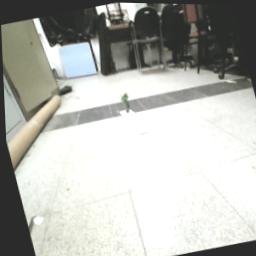herb: (118, 91, 132, 112)
